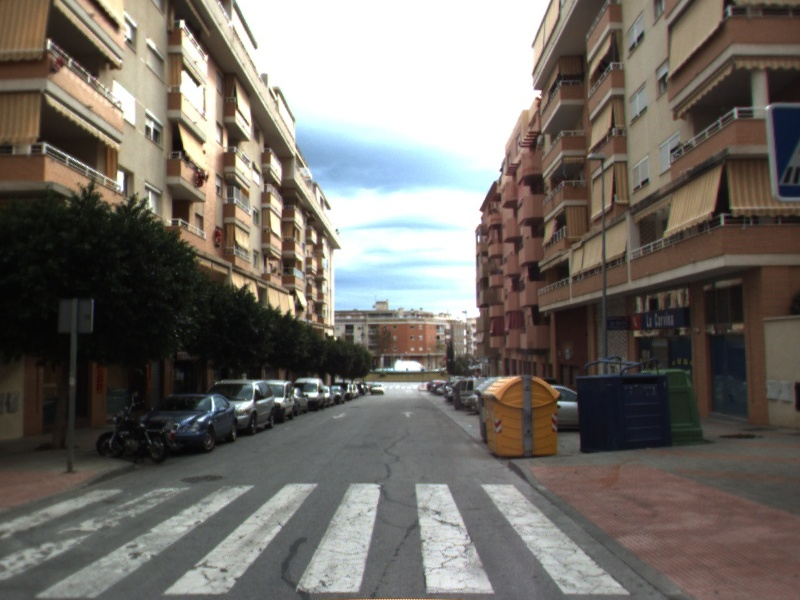STRAIGHT: (399, 409, 416, 419)
